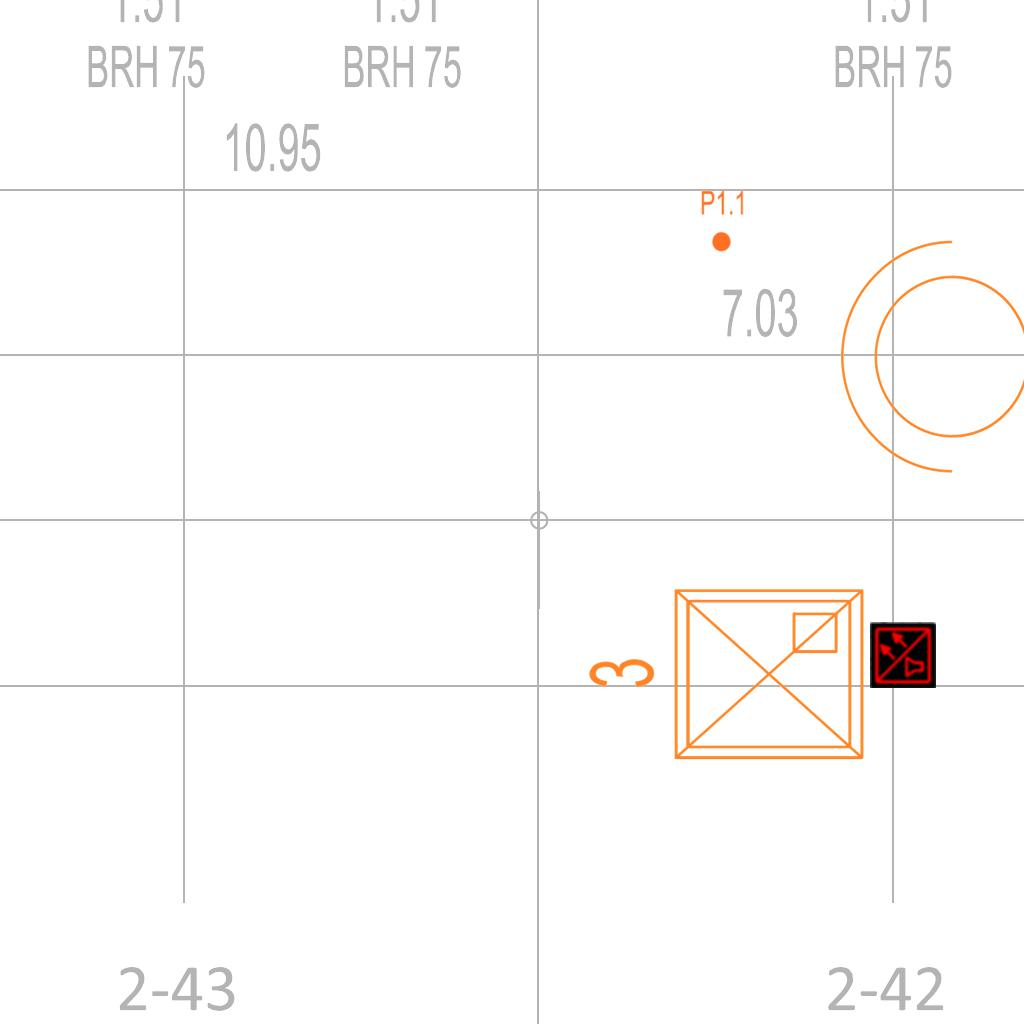Downlight_LED_Einbauleuchten_Flur: (700, 189, 746, 253)
Einbaudownlights_LED_Konferenzraeume: (578, 574, 878, 782)
OKW_Multisensormelder_(Kombination_optischer_Rauch-Kahlenmonoxid_Waerme-Melder): (870, 622, 936, 688)
Scheinwerfer_fuer_Alarmbeleuchtung: (830, 231, 1024, 495)
